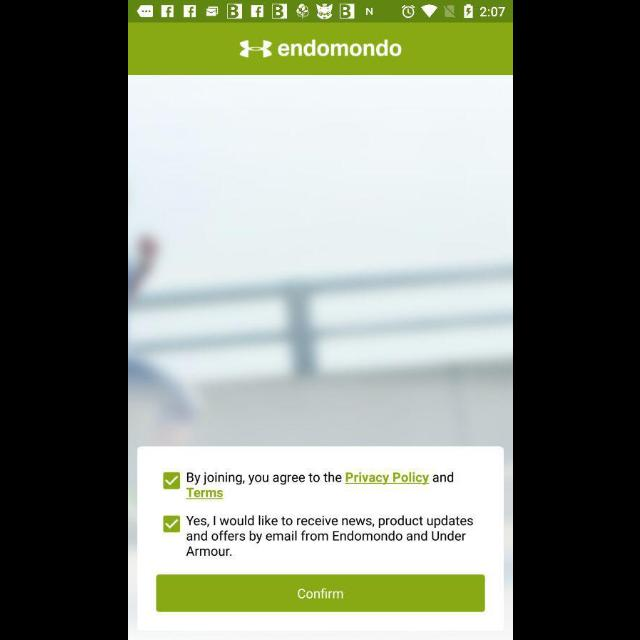checkbox: (162, 473, 178, 489), (163, 516, 179, 532)
image: (238, 39, 402, 59)
text: (185, 514, 472, 556), (185, 472, 453, 501)
textbutton: (156, 575, 484, 613)
uppertaskbar: (128, 1, 512, 23)
